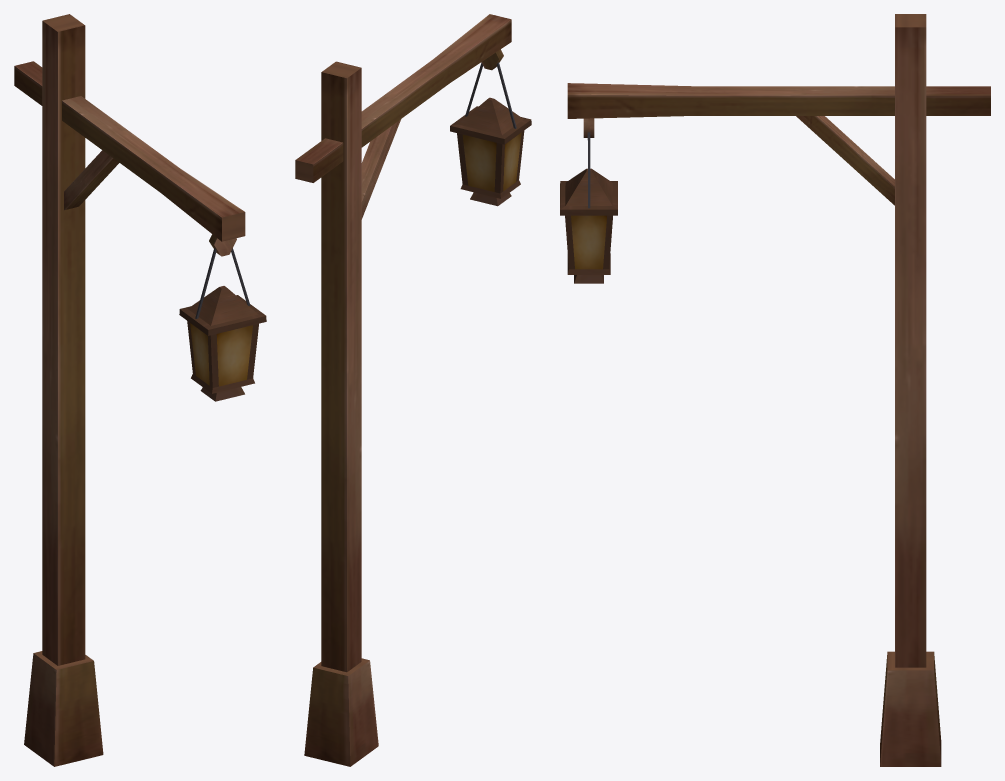
Rendered from Scene_ludeng_001.FBX.
3 renders of one model, left to right at view 1: azimuth 30°, elevation 25°; view 2: azimuth 150°, elevation 25°; view 3: azimuth 270°, elevation 25°, orthographic. The views are drawn at different scales.
Visible parts, largest first — view 1: Scene_ludeng_a, Scene_ludeng_b, Scene_ludeng_c; view 2: Scene_ludeng_a, Scene_ludeng_b, Scene_ludeng_c; view 3: Scene_ludeng_a, Scene_ludeng_b, Scene_ludeng_c.
Part boxes in pixels (x1=…): Scene_ludeng_a: x1=14, y1=14, x2=245, y2=766; Scene_ludeng_b: x1=179, y1=248, x2=266, y2=401; Scene_ludeng_c: x1=190, y1=323, x2=252, y2=386; Scene_ludeng_a: x1=295, y1=14, x2=511, y2=766; Scene_ludeng_b: x1=450, y1=62, x2=531, y2=206; Scene_ludeng_c: x1=462, y1=132, x2=521, y2=191; Scene_ludeng_a: x1=567, y1=14, x2=990, y2=766; Scene_ludeng_b: x1=560, y1=132, x2=617, y2=283; Scene_ludeng_c: x1=571, y1=215, x2=606, y2=269.
Bounding box in the file's own units: 26.74 × 318 × 169.
